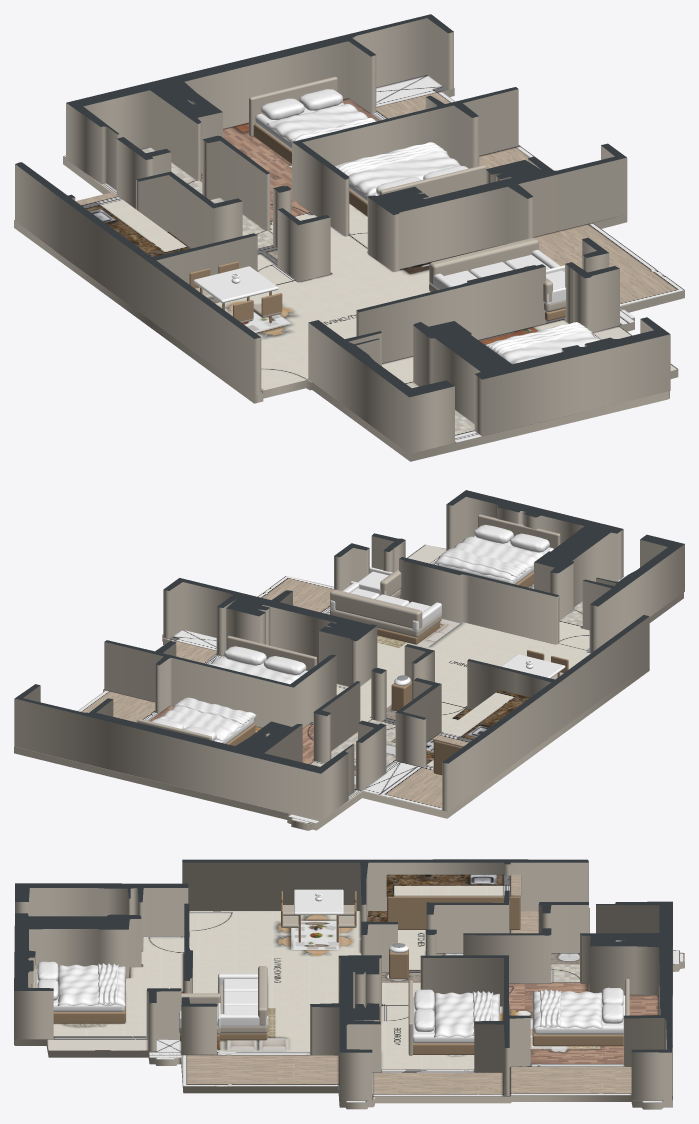
3 views of the same model, one above another, from view 1: azimuth 30°, elevation 25°; view 2: azimuth 150°, elevation 25°; view 3: azimuth 270°, elevation 25° (orthographic). The views are drawn at different scales.
Visible parts, largest first — view 1: Partition walls, Apartment floor, Stone worktop, Draped bed linen.002, Sofa back, Draped bed linen, Marble dining top, Upholstered headboard.001, Draped bed linen.004, Upholstered headboard, Draped bed linen.003, Draped bed linen.005 (+2 smaller); view 2: Partition walls, Apartment floor, Stone worktop, Draped bed linen.004, Sofa back, Draped bed linen, Upholstered headboard.001, Draped bed linen.005, Upholstered headboard.002, Upholstered sofa frame, Draped bed linen.002, Draped bed linen.001 (+6 smaller); view 3: Partition walls, Apartment floor, Stone worktop, Kitchen cabinets, Draped bed linen.004, Draped bed linen.002, Draped bed linen, Marble dining top, Walnut upholstered base, Walnut upholstered base.002, Piped mattress, Draped bed linen.005 (+16 smaller).
Boxes of the visible parts, x1,y1,x2,y2 form: Partition walls: (15,14,670,453); Apartment floor: (14,75,684,461); Stone worktop: (75,192,189,256); Draped bed linen.002: (335,146,460,196); Sofa back: (429,237,538,284); Draped bed linen: (266,103,368,143); Marble dining top: (193,266,278,303); Upholstered headboard.001: (379,165,486,197); Draped bed linen.004: (485,323,599,364); Upholstered headboard: (249,76,337,136); Draped bed linen.003: (336,142,447,176); Draped bed linen.005: (487,322,592,355); Partition walls: (14,490,684,821); Apartment floor: (14,544,683,830); Stone worktop: (432,690,530,747); Draped bed linen.004: (434,536,543,580); Sofa back: (330,589,422,628); Draped bed linen: (159,698,256,740); Upholstered headboard.001: (227,635,316,670); Draped bed linen.005: (438,548,526,577); Upholstered headboard.002: (478,514,560,548); Upholstered sofa frame: (330,609,441,637); Draped bed linen.002: (209,658,299,684); Draped bed linen.001: (173,697,253,724); Partition walls: (14,859,672,1100); Apartment floor: (14,908,684,1109); Stone worktop: (386,874,521,896); Kitchen cabinets: (387,896,520,929); Draped bed linen.004: (57,964,125,1006); Draped bed linen.002: (434,992,499,1037); Draped bed linen: (532,991,602,1028); Marble dining top: (294,889,343,914); Walnut upholstered base: (532,1028,623,1046); Walnut upholstered base.002: (53,977,125,1023); Piped mattress: (533,995,625,1034); Draped bed linen.005: (97,963,118,1005).
Size of the model in its own units: 9.92 by 1.3 by 14.41.
Materials: 10 (1 with a texture image).
